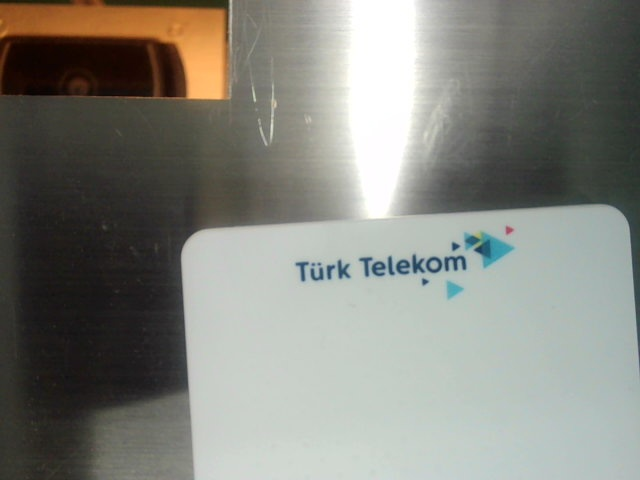AQ_TURKTelekom: (283, 227, 534, 300)
